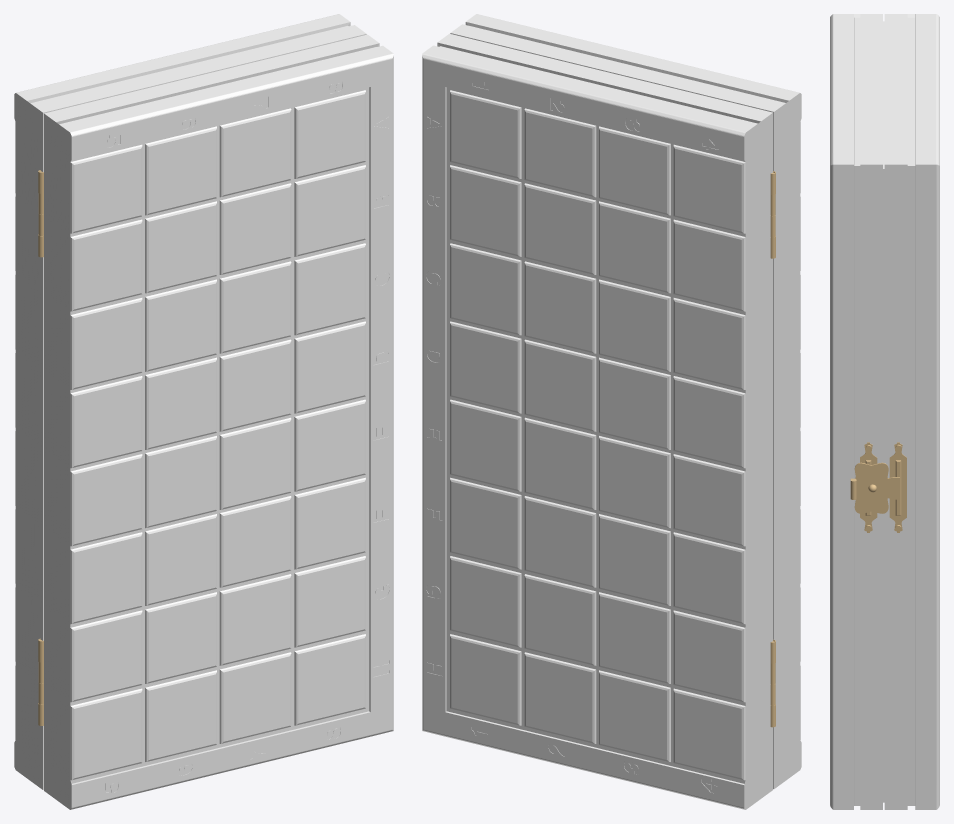
Rendered from chess-set.glb.
The picture shows the model from 3 angles, left to right: view 1: azimuth 30°, elevation 25°; view 2: azimuth 150°, elevation 25°; view 3: azimuth 270°, elevation 25°; orthographic projection. The views are drawn at different scales.
Visible parts, largest first — view 1: Cube.572; view 2: Cube.572; view 3: Cube.572, Plane.019, Plane.020, Plane.010.
Boxes of the visible parts, x1,y1,x2,y2 form: Cube.572: [14, 14, 393, 809]; Cube.572: [422, 14, 801, 809]; Cube.572: [830, 14, 939, 809]; Plane.019: [850, 462, 899, 513]; Plane.020: [889, 442, 906, 532]; Plane.010: [860, 442, 877, 532].
Bounding box in the file's own units: 0.124 × 0.24 × 0.037.
